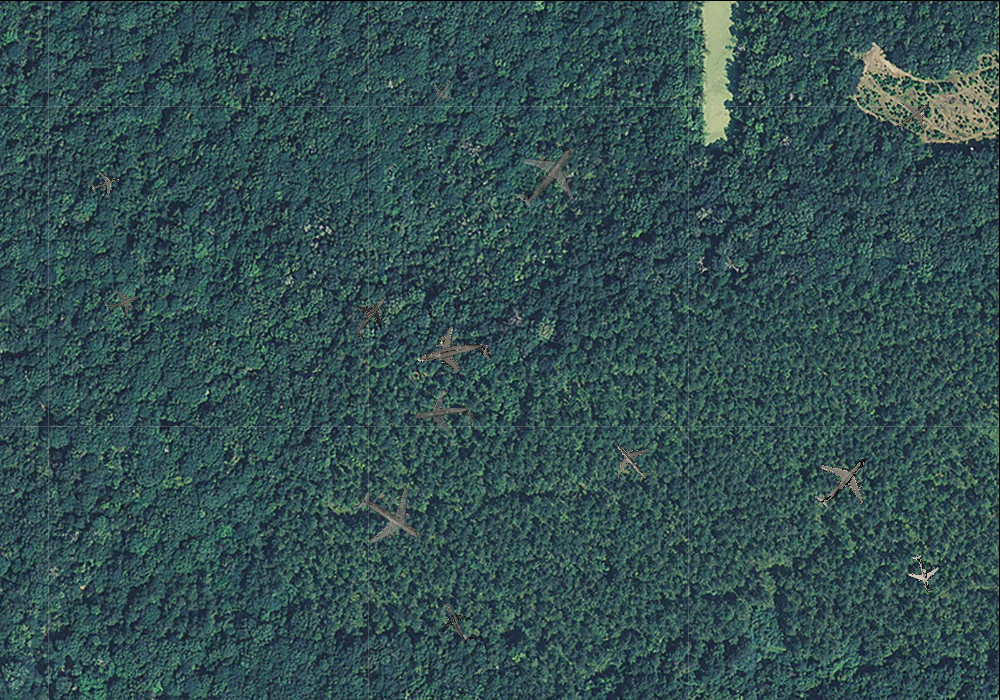plane: (496, 122, 599, 226), (342, 470, 438, 565), (799, 438, 886, 525), (410, 315, 497, 394), (409, 383, 477, 446), (339, 284, 403, 350), (601, 431, 661, 492), (430, 594, 485, 651), (887, 89, 940, 141), (98, 279, 144, 324), (901, 551, 944, 596), (422, 71, 462, 111), (87, 166, 122, 200)
